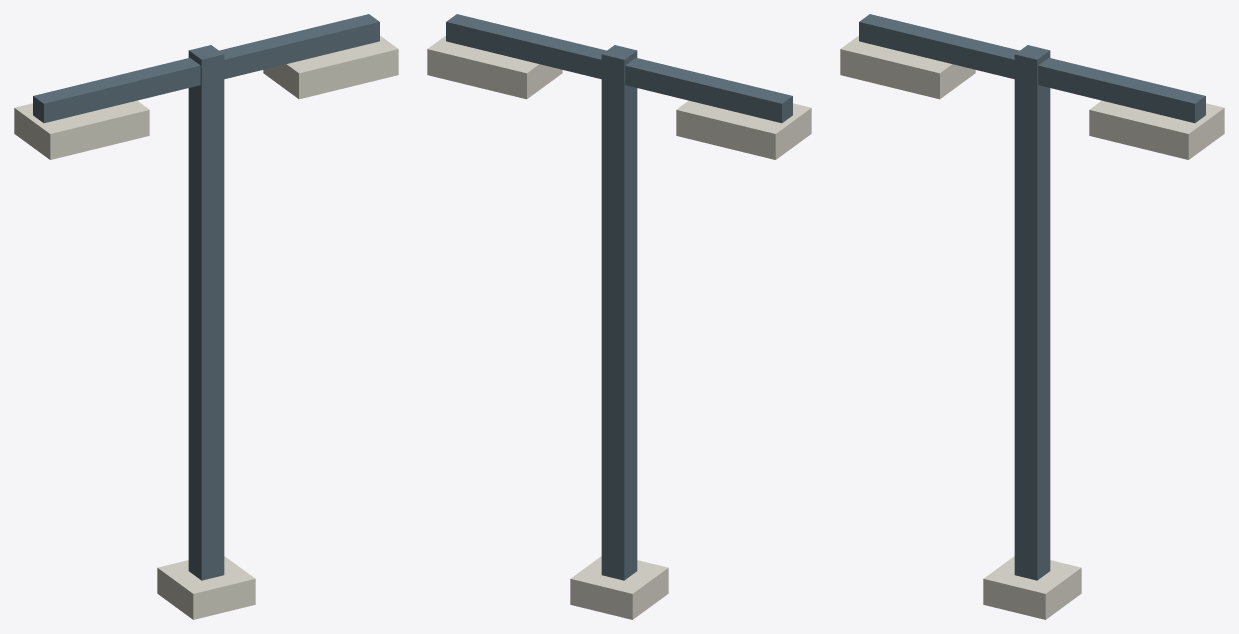
The model's file is voxel-city-districts-double-street-lamp-82a45ad3__24835.glb.
3 views of the same model, side by side, from view 1: azimuth 30°, elevation 25°; view 2: azimuth 150°, elevation 25°; view 3: azimuth 330°, elevation 25° (orthographic).
Visible parts, largest first — view 1: double-street-lamp-dark, double-street-lamp-concrete; view 2: double-street-lamp-dark, double-street-lamp-concrete; view 3: double-street-lamp-dark, double-street-lamp-concrete.
Boxes of the visible parts, x1,y1,x2,y2 form: double-street-lamp-dark: (33, 14, 379, 580); double-street-lamp-concrete: (14, 35, 398, 619); double-street-lamp-dark: (446, 14, 792, 580); double-street-lamp-concrete: (427, 35, 811, 619); double-street-lamp-dark: (859, 14, 1205, 580); double-street-lamp-concrete: (840, 35, 1224, 619).
Bounding box in the file's own units: 2.8 × 4.2 × 0.5.
